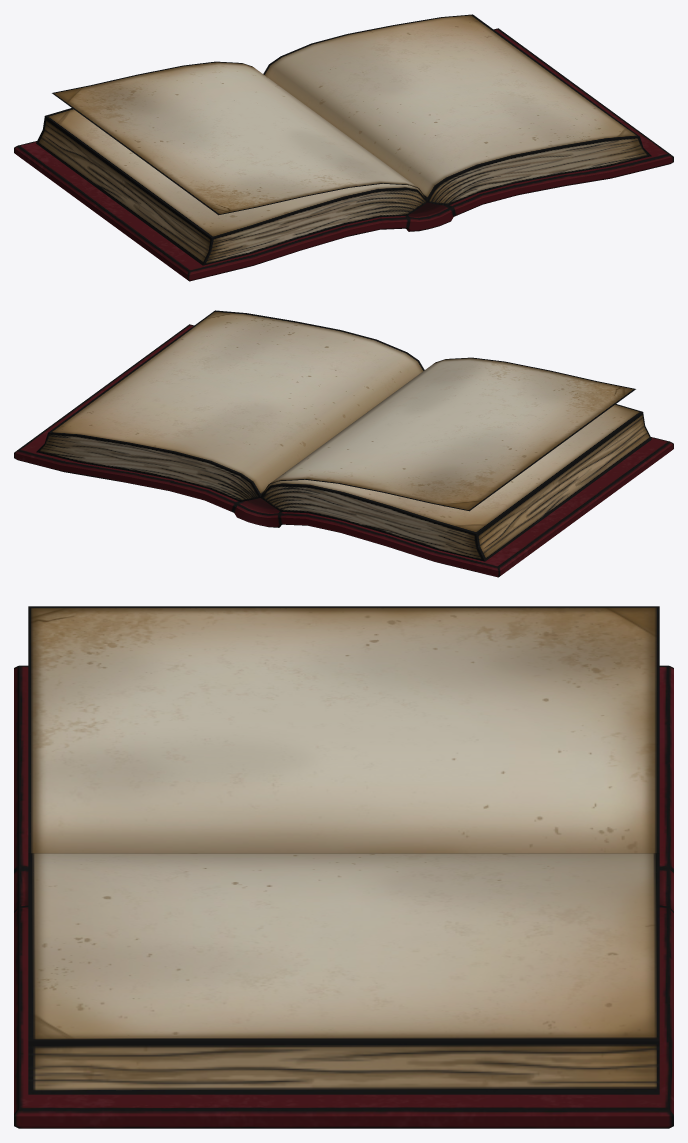
File: beheersingsboek_MOD.fbx
The picture shows the model from 3 angles, top to bottom: view 1: azimuth 30°, elevation 25°; view 2: azimuth 150°, elevation 25°; view 3: azimuth 270°, elevation 25°; orthographic projection. The views are drawn at different scales.
Parts seen in each view (by area): view 1: polySurface1, polySurface2; view 2: polySurface1, polySurface2; view 3: polySurface1, polySurface2.
Boxes of the visible parts, <box> form: polySurface1: <box>14,14,673,281</box>; polySurface2: <box>52,61,426,215</box>; polySurface1: <box>14,310,673,577</box>; polySurface2: <box>261,357,635,511</box>; polySurface1: <box>14,665,673,1128</box>; polySurface2: <box>28,606,659,853</box>.
Bounding box in the file's own units: 12.95 × 1.61 × 8.06.
1 material, 1 textured.
